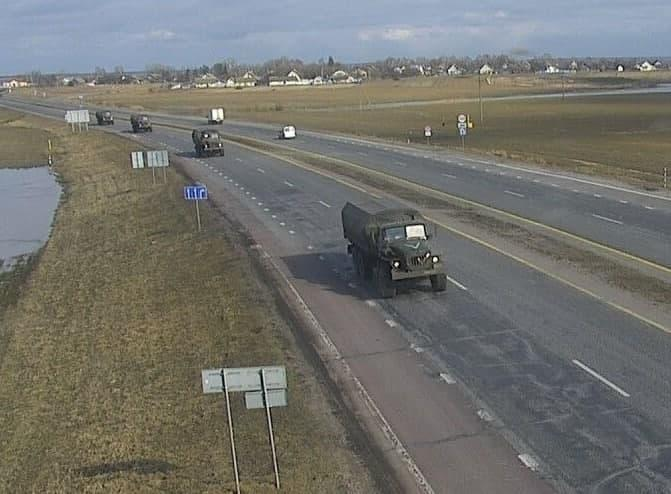car: (276, 125, 298, 142), (206, 109, 226, 123)
truck: (338, 198, 447, 297), (191, 128, 223, 162), (127, 114, 155, 133), (95, 110, 118, 126)
